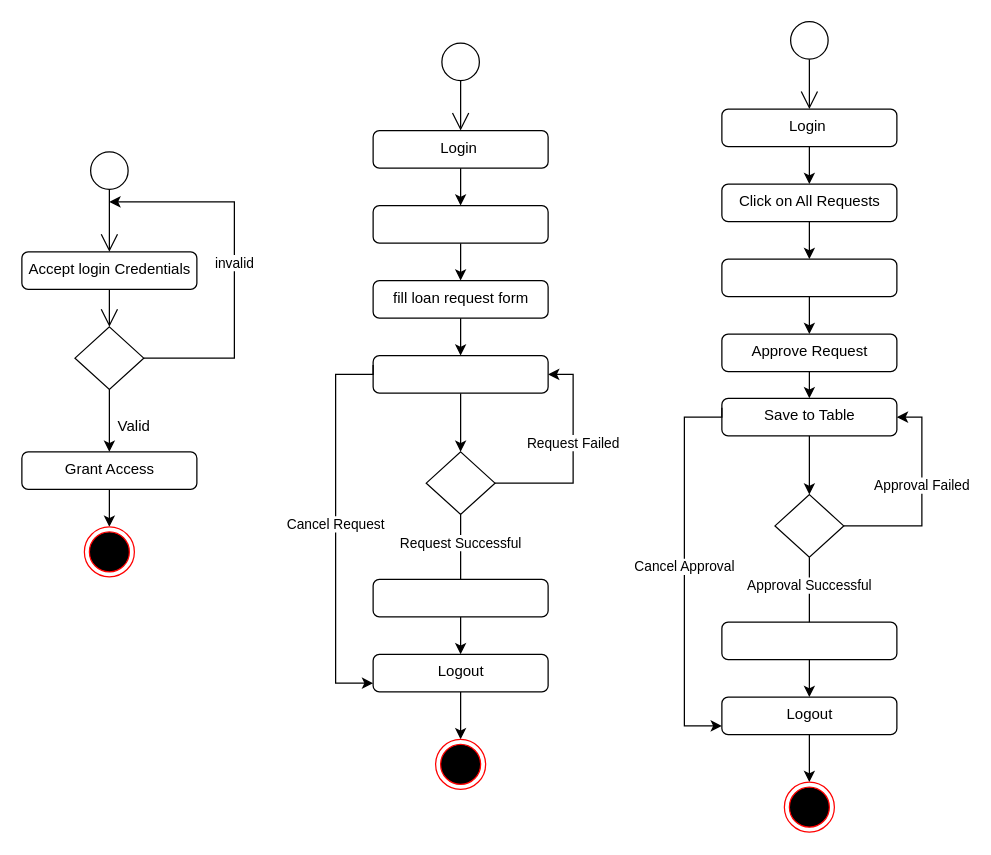
The diagram is 991 pixels wide and 855 high, and some of its shapes have lost their labels. The centre of each missing label's shape, as x and y in pixels:
Display approved loans: pixel 809 640
Display loan details: pixel 460 597
Route to Loan page: pixel 460 223
Select Request: pixel 809 277
Submit form: pixel 460 373
